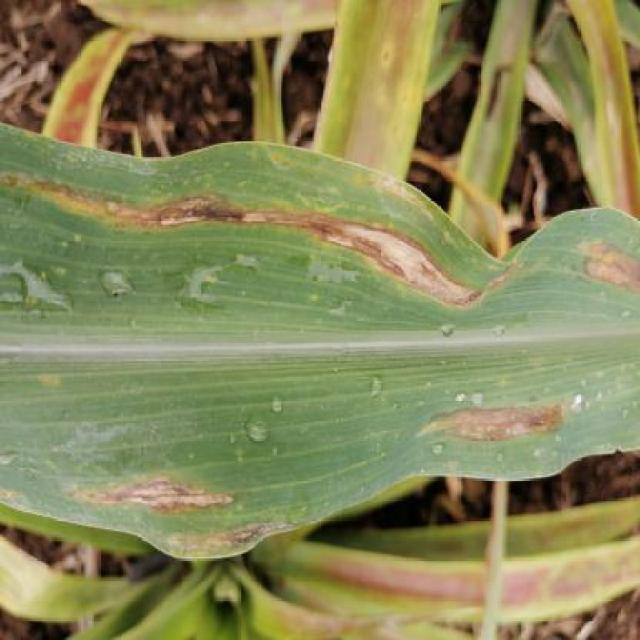Corn_Leaf_Blight: (0, 115, 640, 563)
